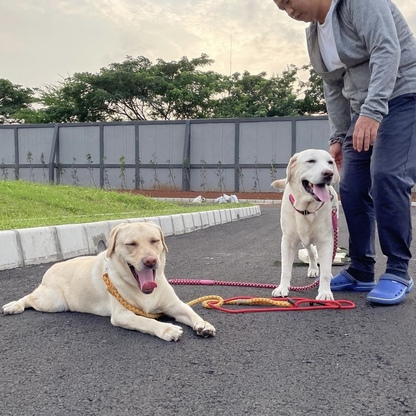labrado: (1, 217, 220, 344), (266, 146, 350, 306)
